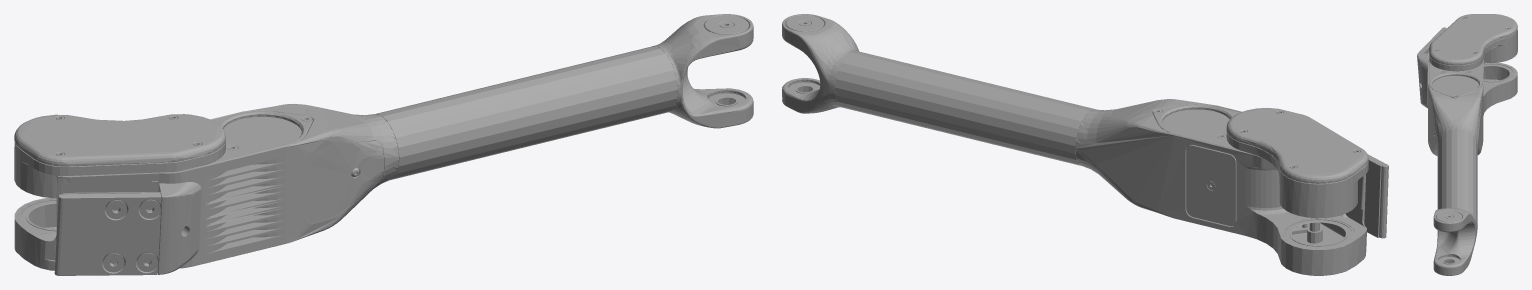
File: tarsus.obj
3 views of the same model, side by side, from view 1: azimuth 30°, elevation 25°; view 2: azimuth 150°, elevation 25°; view 3: azimuth 270°, elevation 25° (orthographic). The views are drawn at different scales.
Parts seen in each view (by area): view 1: tarsus; view 2: tarsus; view 3: tarsus.
Boxes of the visible parts, bbox=[...] form: tarsus: bbox=[14, 14, 753, 275]; tarsus: bbox=[782, 14, 1388, 275]; tarsus: bbox=[1417, 14, 1517, 275].
Size of the model in its own units: 0.4496 by 0.0716 by 0.0963.
Materials: 1 (1 with a texture image).
